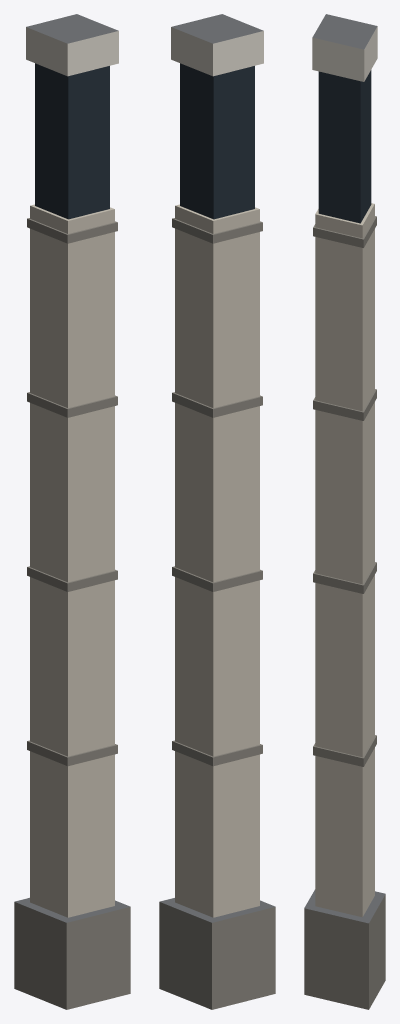
File: bldg_w115766969.glb
3 views of the same model, side by side, from view 1: azimuth 30°, elevation 25°; view 2: azimuth 210°, elevation 25°; view 3: azimuth 330°, elevation 25° (orthographic).
Parts seen in each view (by area): view 1: Bldg_w115766969; view 2: Bldg_w115766969; view 3: Bldg_w115766969.
Part boxes in pixels (x1,y1,x2,y2): Bldg_w115766969: [14, 14, 130, 1009]; Bldg_w115766969: [159, 14, 275, 1009]; Bldg_w115766969: [304, 14, 385, 1009].
Bounding box in the file's own units: 7.91 × 88.4 × 5.91.
